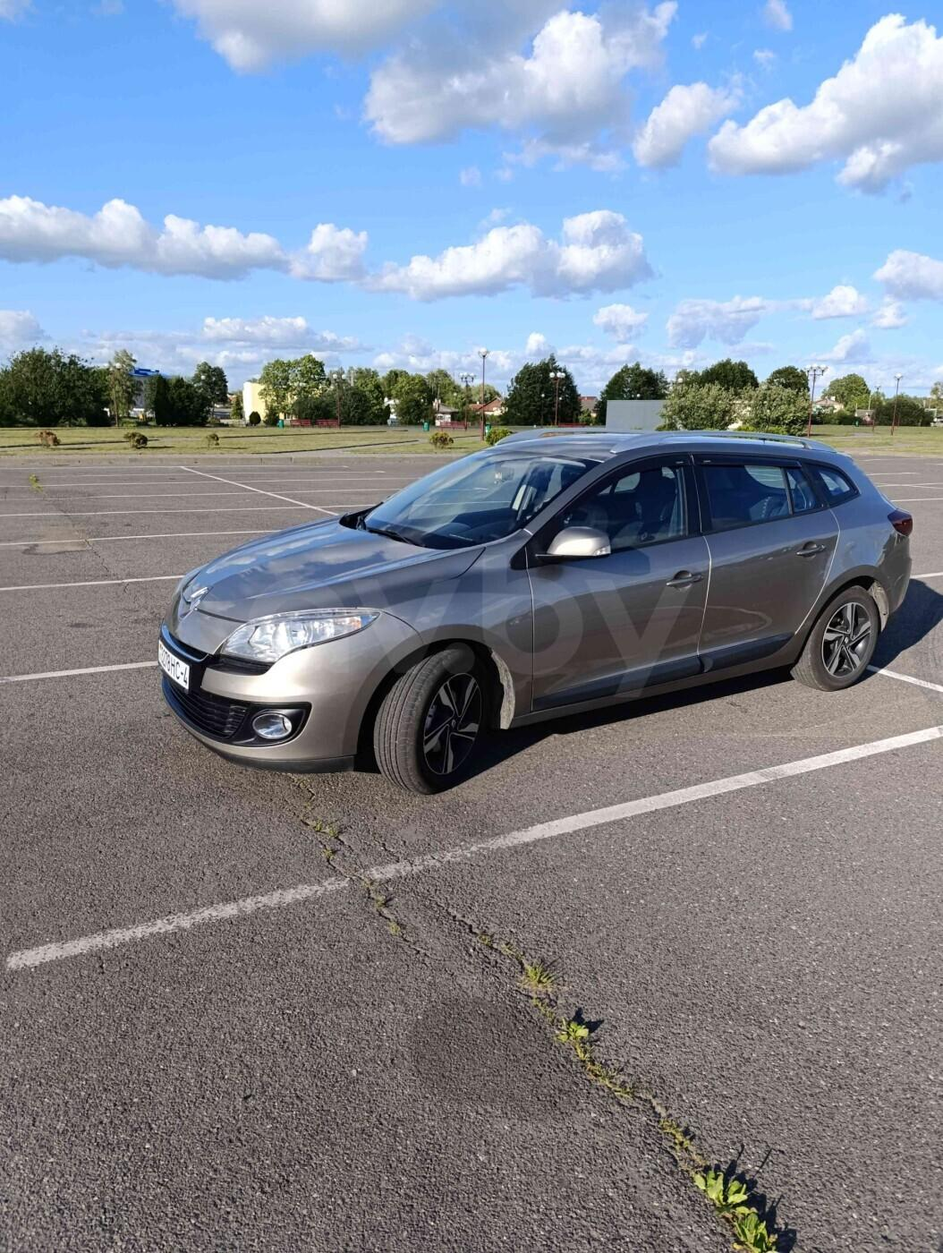Megane_2012-2014: (152, 426, 916, 800)
